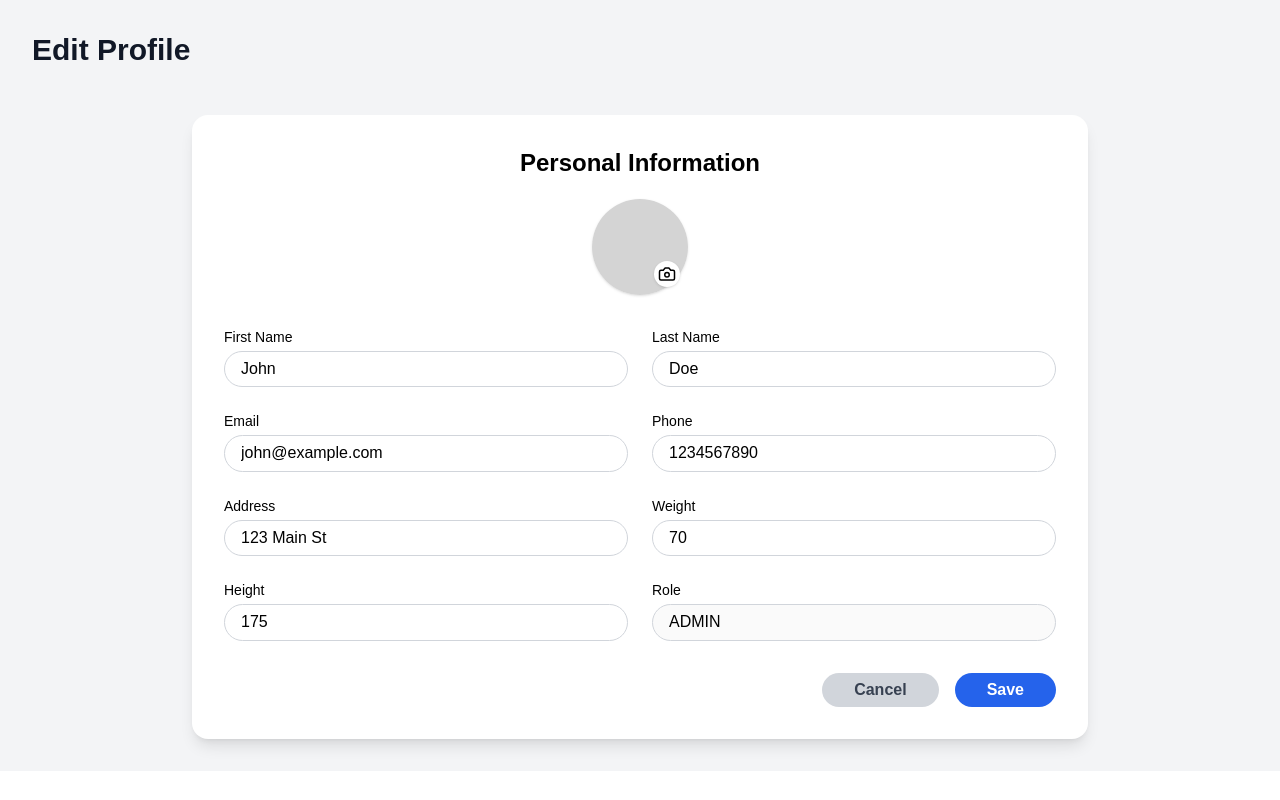
EditProfile › Form Submission › disables save button and shows loading state during submission
Click the button "Save": (1005, 690) [955,673,1056,707]
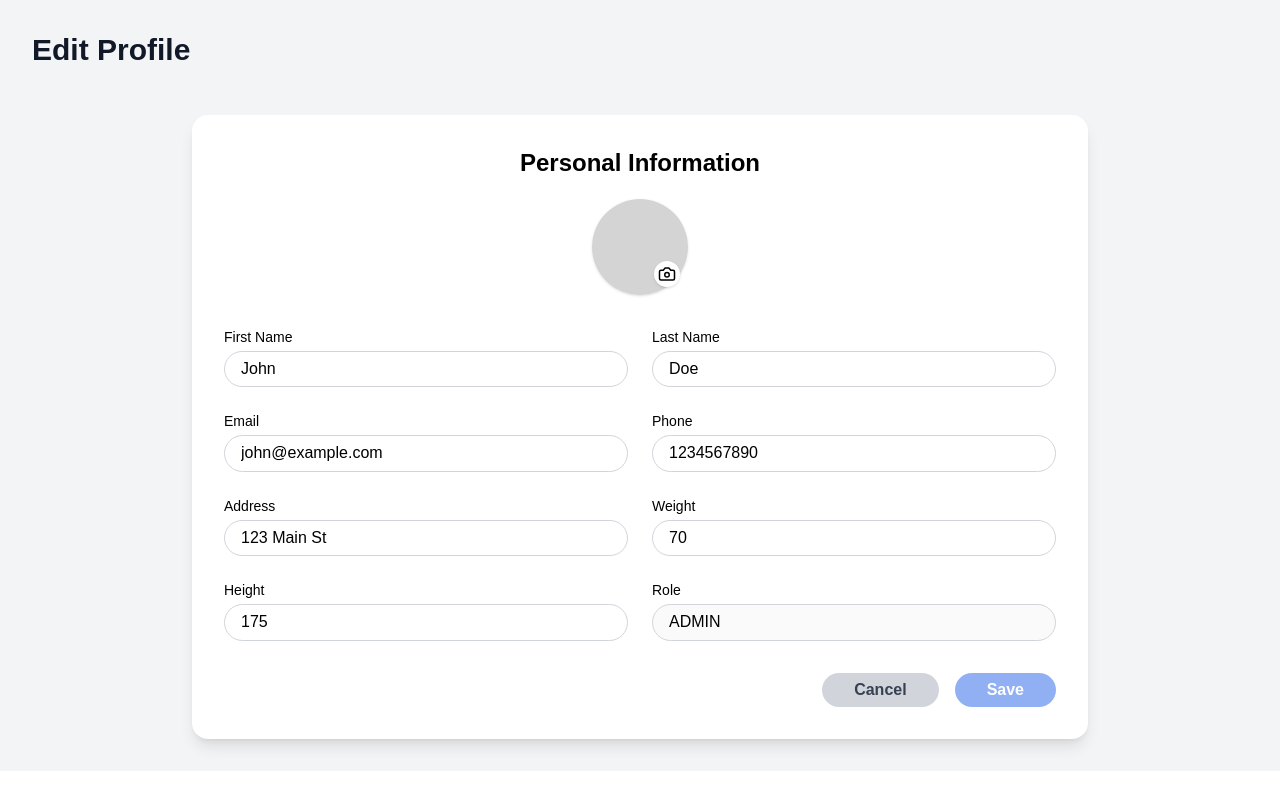
Expected: the button "Save" is disabled, [955,673,1056,707]
